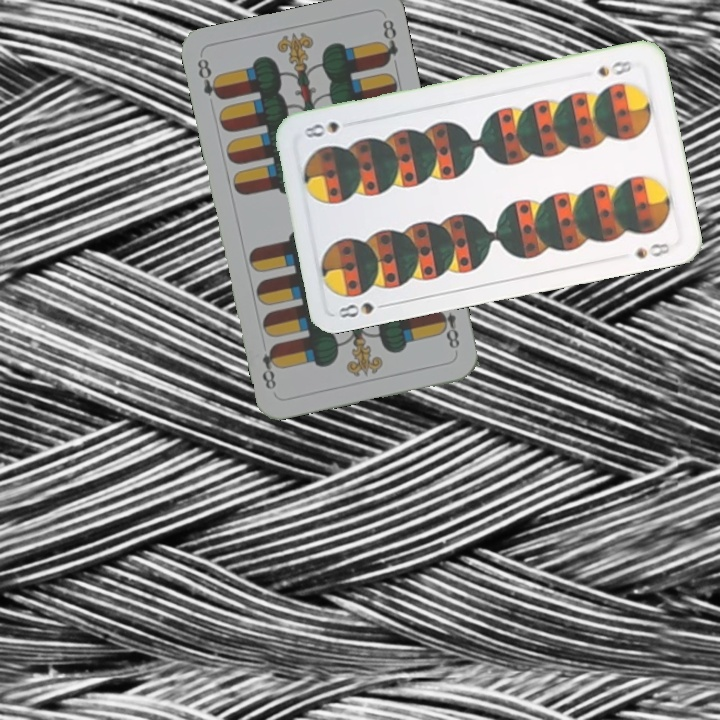E8: (193, 54, 225, 102), (433, 306, 462, 352)
S8: (334, 298, 393, 321), (594, 56, 637, 80)
